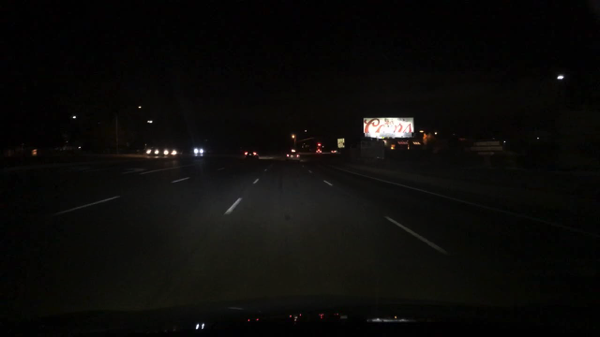car: (285, 149, 301, 162), (191, 147, 213, 156), (243, 149, 258, 160), (162, 147, 176, 157), (145, 147, 160, 156), (315, 147, 322, 154), (330, 148, 337, 154)
traffic light: (316, 141, 321, 148)
traffic sign: (336, 138, 343, 148)
